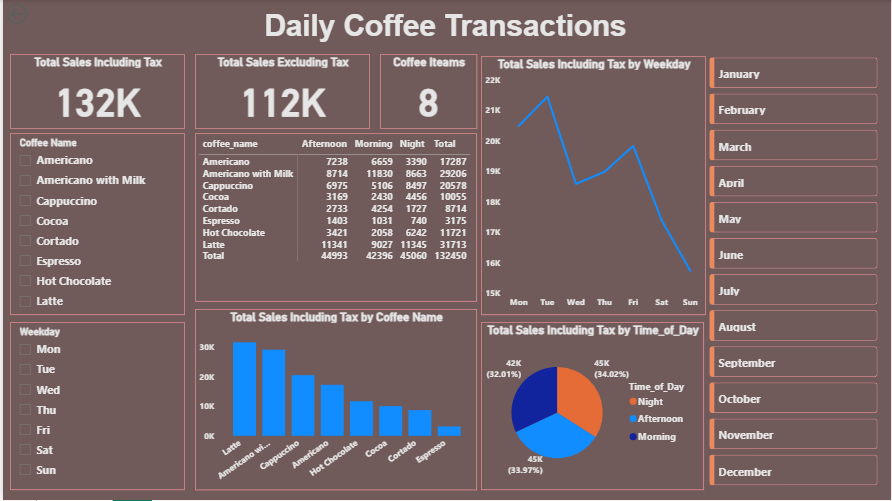

The dashboard page shown, as its layout file describes it:
{"tool":"powerbi","page":{"name":"Page 1","canvas":[1280,720],"ordinal":0},"visuals":[{"type":"textbox","box":[10.1,7.2,1254.2,73.4],"z":0},{"type":"card","title":"Total Sales Excluding Tax","fields":{"Values":["Sum(Coffe_sales.TotalSales_Excluding_Tax)"]},"box":[276.5,77.8,252,108],"z":1},{"type":"card","title":"Coffee Iteams","fields":{"Values":["Coffe_sales.Coffee_Iteams"]},"box":[542.9,77.8,139.7,108],"z":2},{"type":"card","title":"Total Sales Including Tax","fields":{"Values":["Sum(Coffe_sales.TotalSales_Including_Tax)"]},"box":[10.1,77.8,252,108],"z":3},{"type":"slicer","fields":{"Values":["Coffe_sales.coffee_name"]},"box":[10.1,191.5,252,262.1],"z":4},{"type":"slicer","fields":{"Values":["Coffe_sales.Weekday"]},"box":[10.1,463.7,252,241.9],"z":5},{"type":"advancedSlicerVisual","fields":{"Values":["Coffe_sales.Month"]},"box":[1012.3,77.8,252,627.8],"z":6},{"type":"clusteredColumnChart","title":"Total Sales Including Tax by Coffee Name","fields":{"Category":["Coffe_sales.coffee_name"],"Y":["Sum(Coffe_sales.TotalSales_Including_Tax)"]},"box":[276.5,445,406.1,260.6],"z":7},{"type":"lineChart","title":"Total Sales Including Tax by Weekday","fields":{"Category":["Coffe_sales.Weekday"],"Y":["Sum(Coffe_sales.TotalSales_Including_Tax)"]},"box":[688.3,80.6,324,373],"z":8},{"type":"pieChart","title":"Total Sales Including Tax by Time_of_Day","fields":{"Category":["Coffe_sales.Time_of_Day"],"Y":["Sum(Coffe_sales.TotalSales_Including_Tax)"]},"box":[688.3,463.7,321.1,241.9],"z":9},{"type":"actionButton","box":[0,0,100,40],"z":11},{"type":"pivotTable","fields":{"Rows":["Coffe_sales.coffee_name"],"Columns":["Coffe_sales.Time_of_Day"],"Values":["Sum(Coffe_sales.TotalSales_Including_Tax)"]},"box":[276.5,191.5,406.1,243.4],"z":12}]}

Visuals, with their boxes in screenshot pixels (x1, y1, x2, y2), scaled from the page's 1280x720 canvas onto the 892x501 screenshot:
textbox: <box>7,5,881,56</box>
"Total Sales Excluding Tax" card: <box>193,54,368,129</box>
"Coffee Iteams" card: <box>378,54,476,129</box>
"Total Sales Including Tax" card: <box>7,54,183,129</box>
slicer - Coffe_sales.coffee_name: <box>7,133,183,316</box>
slicer - Coffe_sales.Weekday: <box>7,323,183,491</box>
advancedSlicerVisual - Coffe_sales.Month: <box>705,54,881,491</box>
"Total Sales Including Tax by Coffee Name" clusteredColumnChart: <box>193,310,476,491</box>
"Total Sales Including Tax by Weekday" lineChart: <box>480,56,705,316</box>
"Total Sales Including Tax by Time_of_Day" pieChart: <box>480,323,703,491</box>
actionButton: <box>0,0,70,28</box>
pivotTable - Coffe_sales.coffee_name x Coffe_sales.Time_of_Day: <box>193,133,476,303</box>
